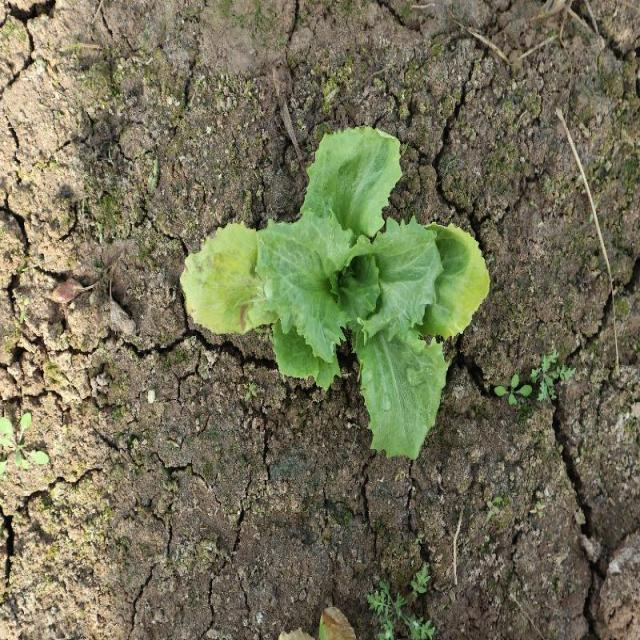crop: (255, 122, 489, 460)
